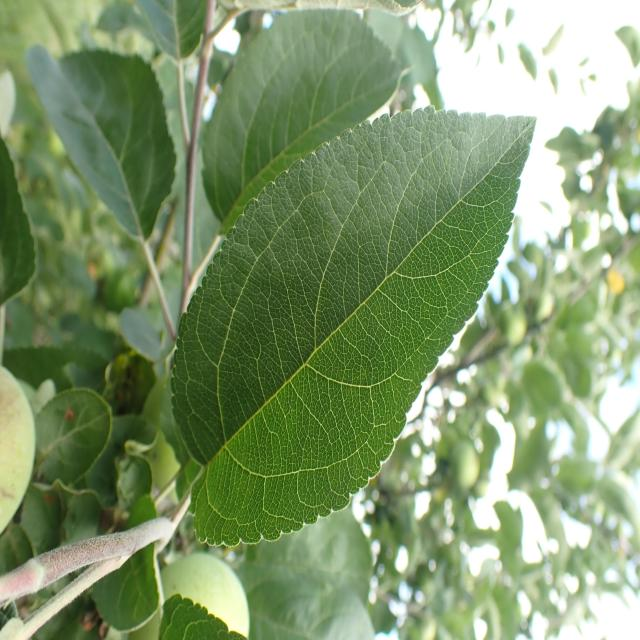healthy: (171, 106, 537, 548), (200, 8, 407, 236), (24, 44, 178, 242), (0, 136, 38, 306), (158, 594, 250, 640)
